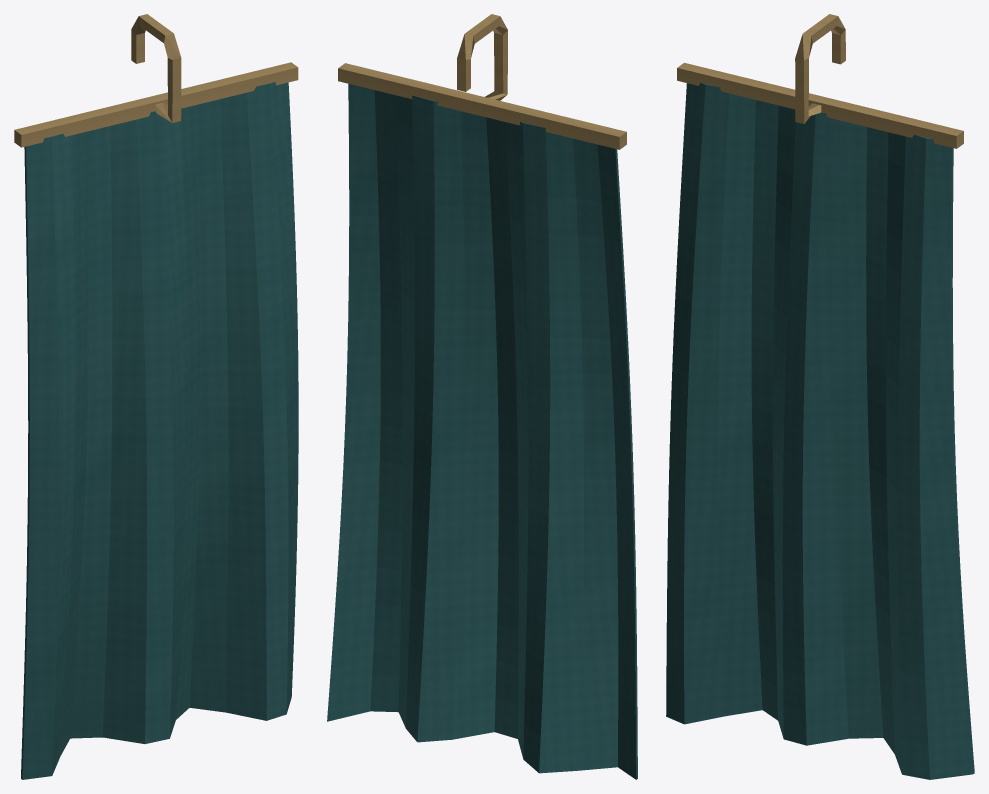
File: AST-RTL-008_teal_weave.glb
The picture shows the model from 3 angles, left to right: view 1: azimuth 30°, elevation 25°; view 2: azimuth 150°, elevation 25°; view 3: azimuth 330°, elevation 25°; orthographic projection.
Parts seen in each view (by area): view 1: TEXTILE_AuthoredFoldedPanel, TEXTILE_SupportBar, TEXTILE_HangingNeck; view 2: TEXTILE_AuthoredFoldedPanel, TEXTILE_SupportBar, TEXTILE_HangingNeck; view 3: TEXTILE_AuthoredFoldedPanel, TEXTILE_SupportBar, TEXTILE_HangingNeck.
Boxes of the visible parts, x1=… form: TEXTILE_AuthoredFoldedPanel: x1=21, y1=82, x2=298, y2=779; TEXTILE_SupportBar: x1=14, y1=62, x2=298, y2=147; TEXTILE_HangingNeck: x1=131, y1=14, x2=181, y2=122; TEXTILE_AuthoredFoldedPanel: x1=327, y1=84, x2=637, y2=779; TEXTILE_SupportBar: x1=338, y1=63, x2=626, y2=149; TEXTILE_HangingNeck: x1=457, y1=14, x2=507, y2=100; TEXTILE_AuthoredFoldedPanel: x1=666, y1=82, x2=974, y2=779; TEXTILE_SupportBar: x1=677, y1=62, x2=963, y2=148; TEXTILE_HangingNeck: x1=795, y1=14, x2=845, y2=123.
Size of the model in its own units: 0.59 by 1.4 by 0.1479.
2 materials, 2 textured.
